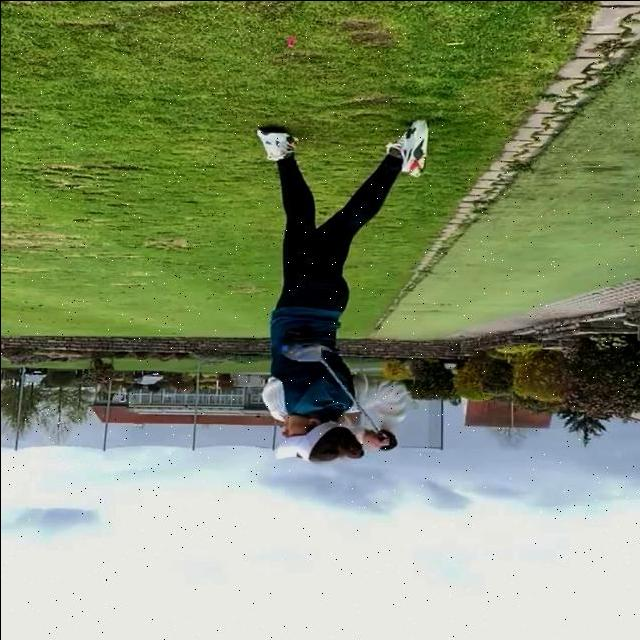golf club-handle: (279, 325, 381, 434)
golf club-head: (280, 325, 323, 361)
